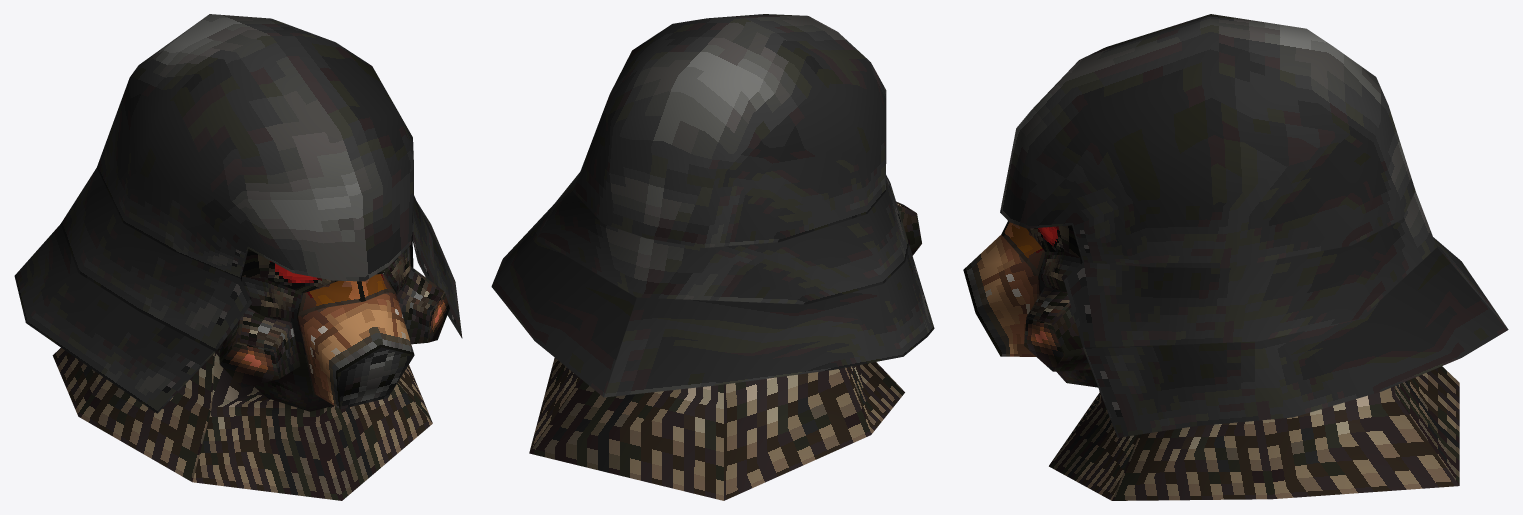
The model's file is m_hair095.glb.
3 views of the same model, side by side, from view 1: azimuth 30°, elevation 25°; view 2: azimuth 150°, elevation 25°; view 3: azimuth 270°, elevation 25° (orthographic). The views are drawn at different scales.
Bounding box in the file's own units: 30.22 × 29.11 × 32.74.
1 material, 1 textured.
